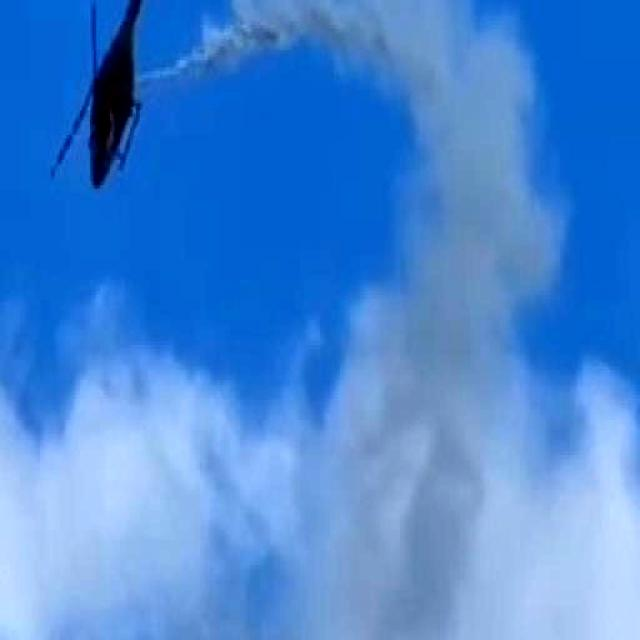drone: (45, 0, 162, 204)
